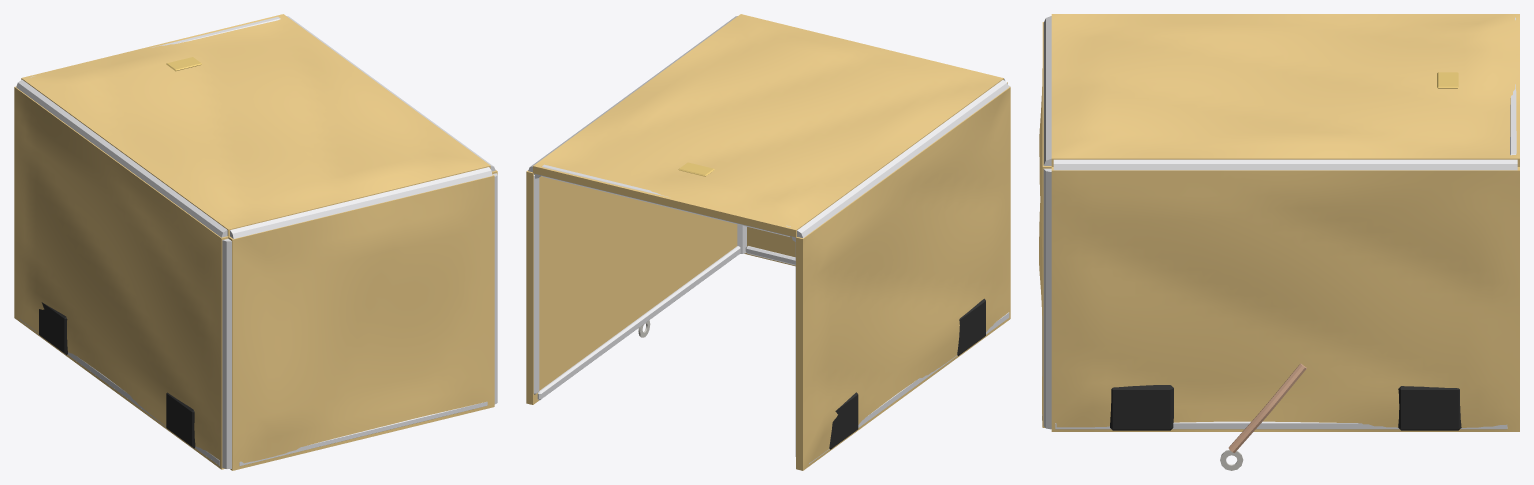
The model's file is mli_blanket.glb.
3 views of the same model, side by side, from view 1: azimuth 30°, elevation 25°; view 2: azimuth 150°, elevation 25°; view 3: azimuth 270°, elevation 25° (orthographic). The views are drawn at different scales.
Visible parts, largest first — view 1: mli_blanket; view 2: mli_blanket; view 3: mli_blanket.
Boxes of the visible parts, x1,y1,x2,y2 form: mli_blanket: [14, 14, 497, 470]; mli_blanket: [526, 14, 1010, 470]; mli_blanket: [1039, 14, 1519, 470].
Bounding box in the file's own units: 0.1058 × 0.0948 × 0.1335.
